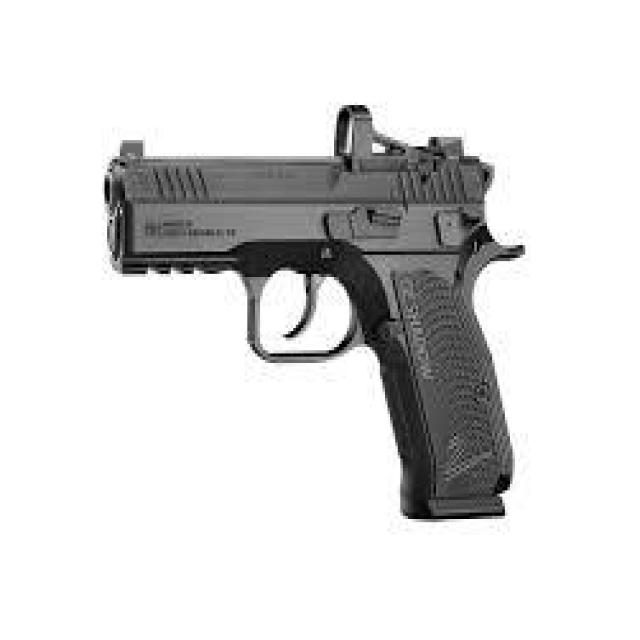gun: (105, 103, 527, 524)
